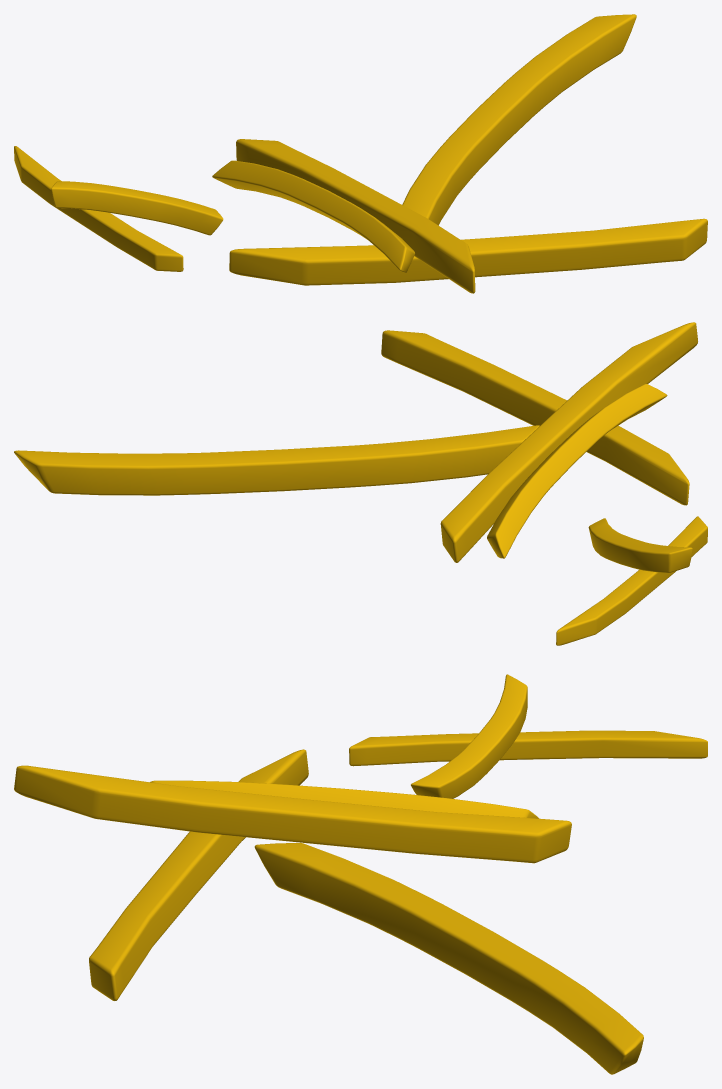
Rendered from PR_Patata.fbx.
3 views of the same model, one above another, from view 1: azimuth 30°, elevation 25°; view 2: azimuth 150°, elevation 25°; view 3: azimuth 270°, elevation 25° (orthographic). The views are drawn at different scales.
Visible parts, largest first — view 1: Patat1.001; view 2: Patat1.001; view 3: Patat1.001.
Part boxes in pixels (x1=…): Patat1.001: x1=14, y1=14, x2=707, y2=293; Patat1.001: x1=14, y1=322, x2=707, y2=645; Patat1.001: x1=14, y1=674, x2=707, y2=1074.
Size of the model in its own units: 29.6 by 3.32 by 24.28.
